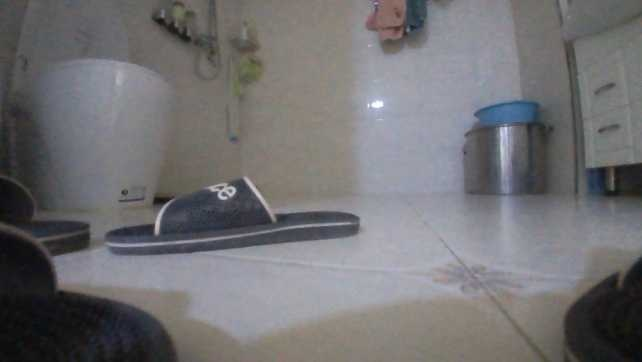slipper: (104, 175, 361, 252)
toilet: (5, 1, 168, 210)
